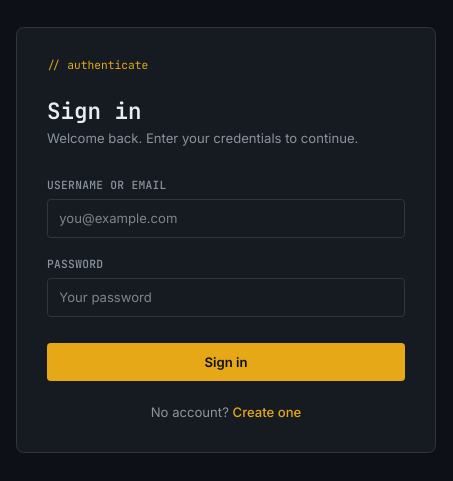
it: LoginView › shows error for empty password field
The image size is (453, 481).
In the field with id "usernameOrEmail": coordinates (226, 218) [47,199,405,238], type "testuser"
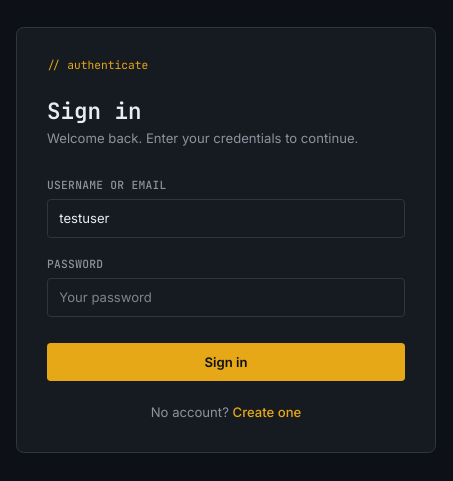
Submit the form, box [47,178,405,381]
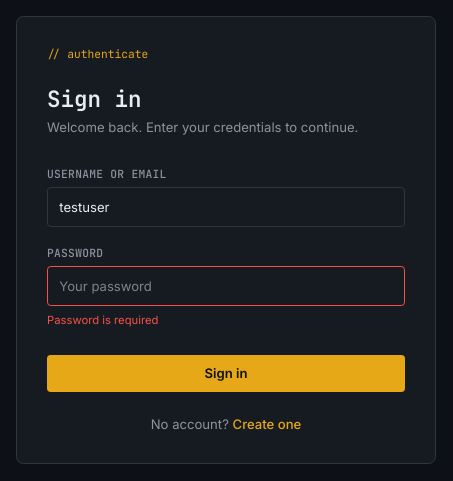
Check: the text "Password is required" is shown, box [47,313,158,327]
